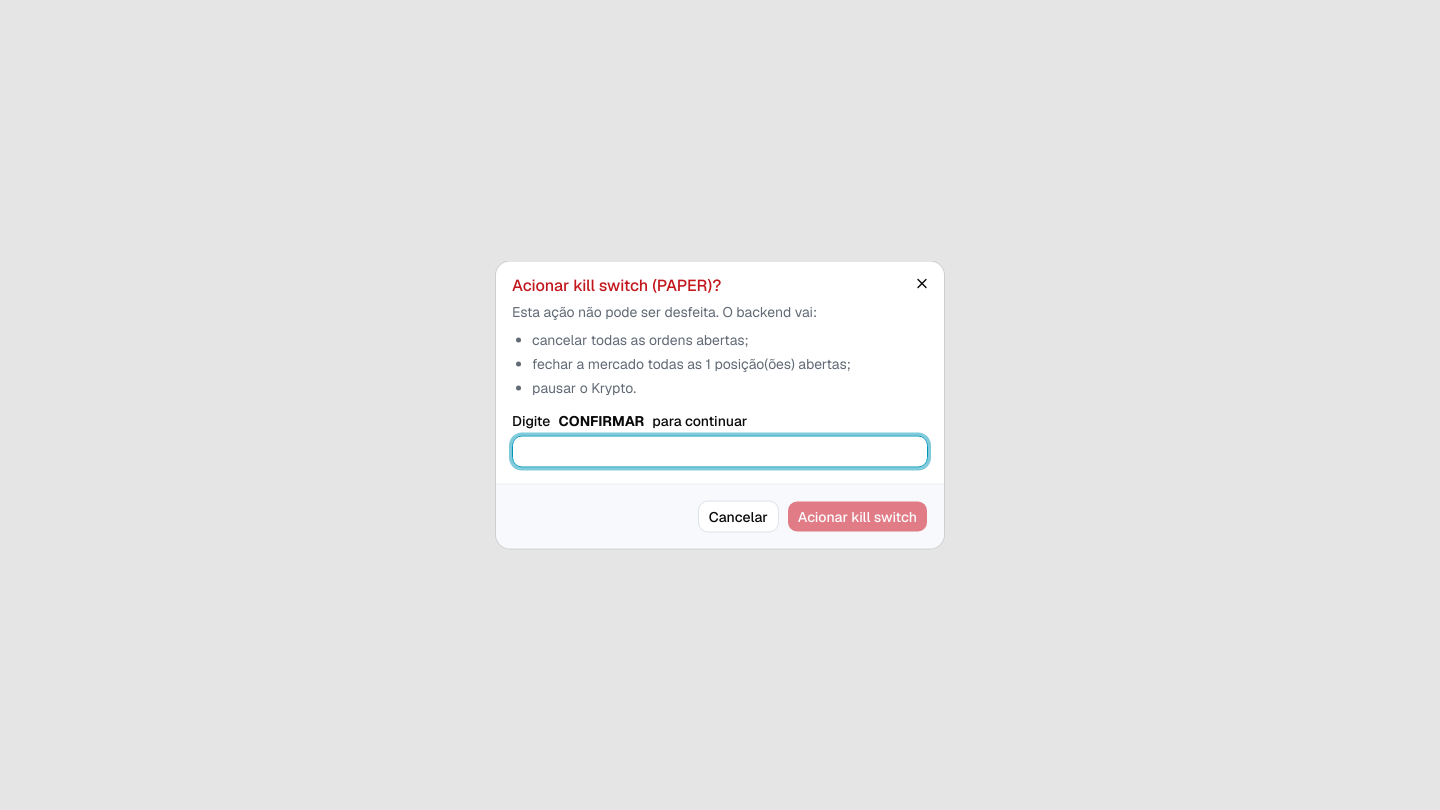
Test: KillSwitchDialog › shows the backend error and keeps the dialog open
Type "CONFIRMAR" into the field labelled "Digite CONFIRMAR para continuar".
click(720, 452); type("CONFIRMAR")  # box [512, 436, 928, 468]
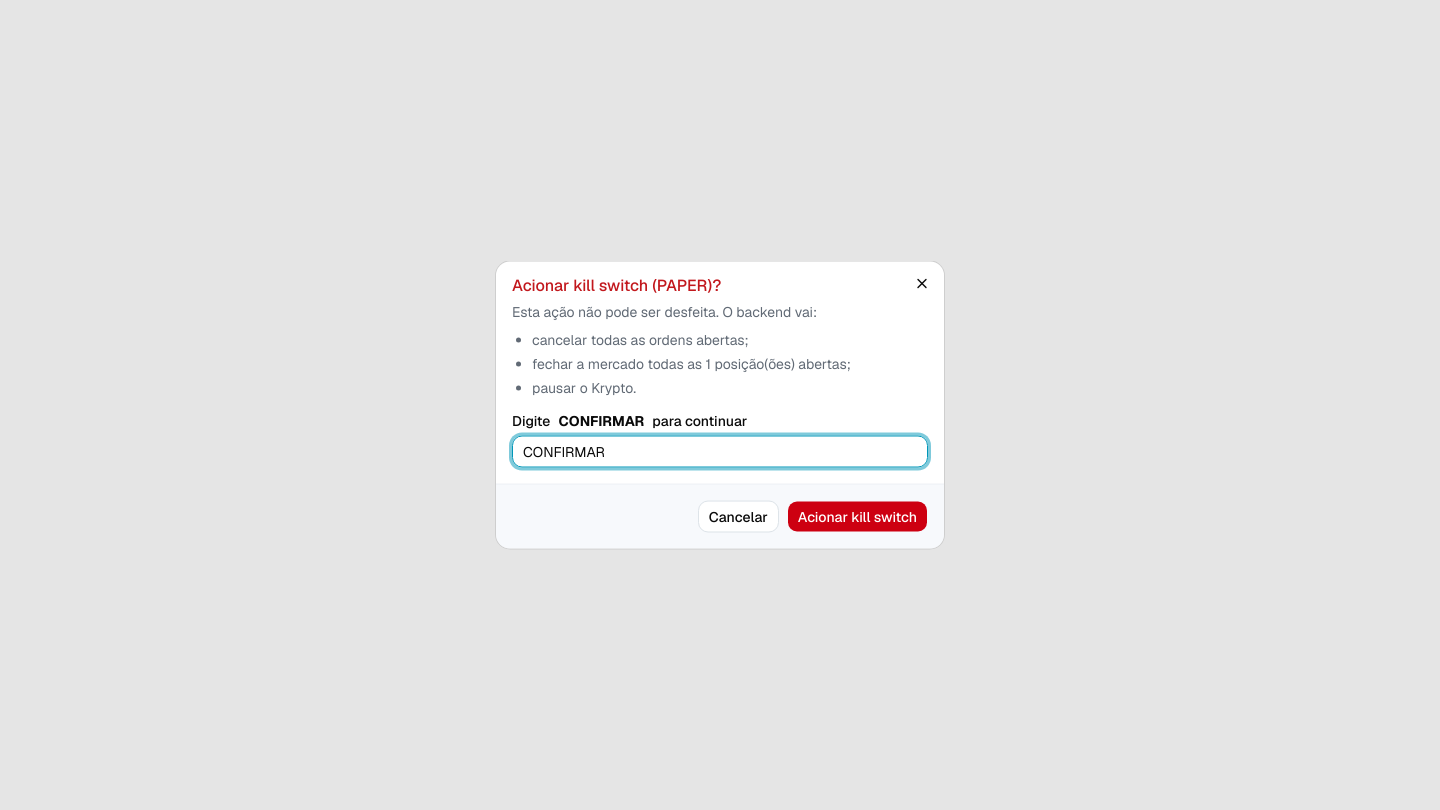
Click the button "Acionar kill switch".
click(857, 516)  # box [787, 500, 928, 532]
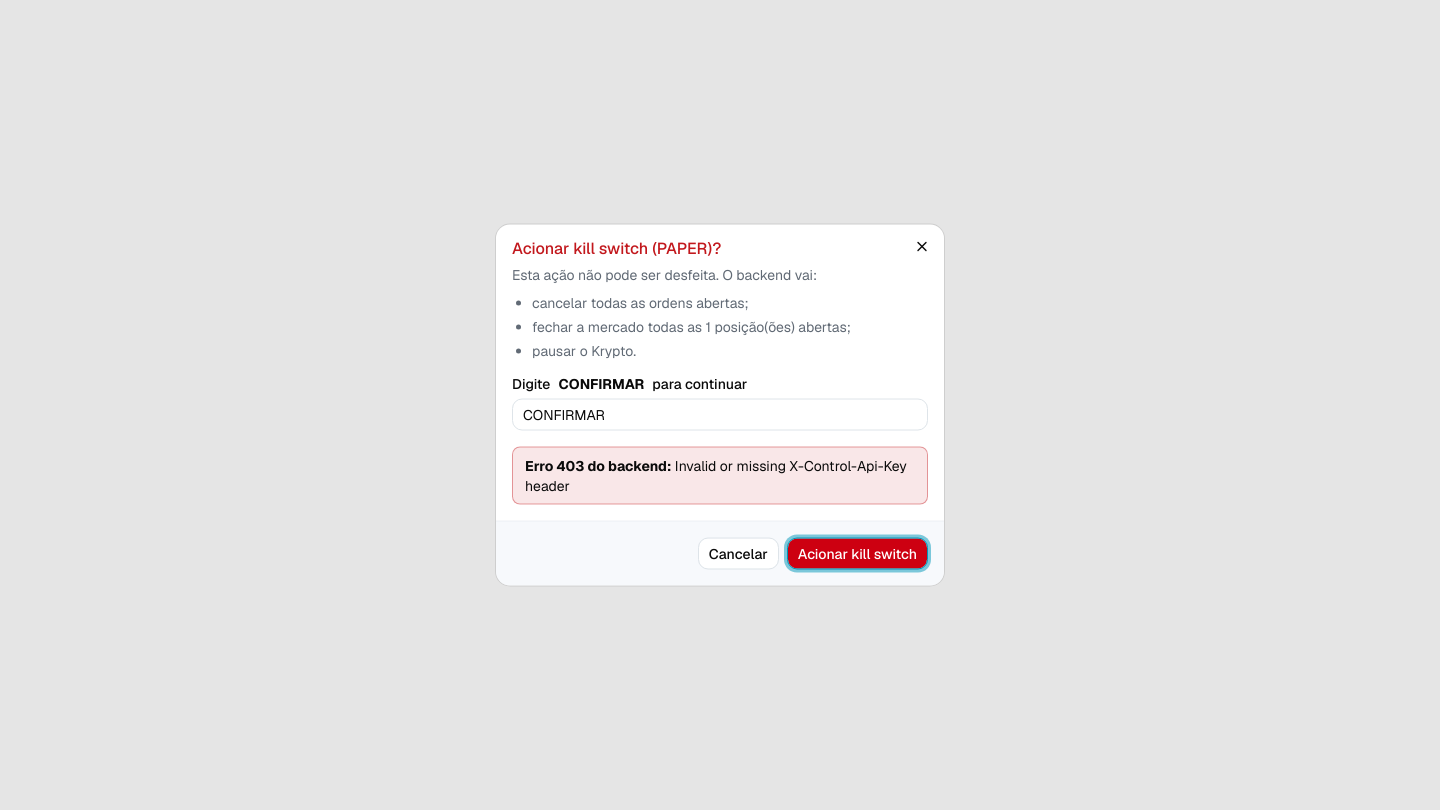
Expected: the button "Acionar kill switch" is shown, [787, 538, 928, 570]
Now the message shows "Invalid or missing X-Control-Api-Key header", box [525, 456, 907, 494]
